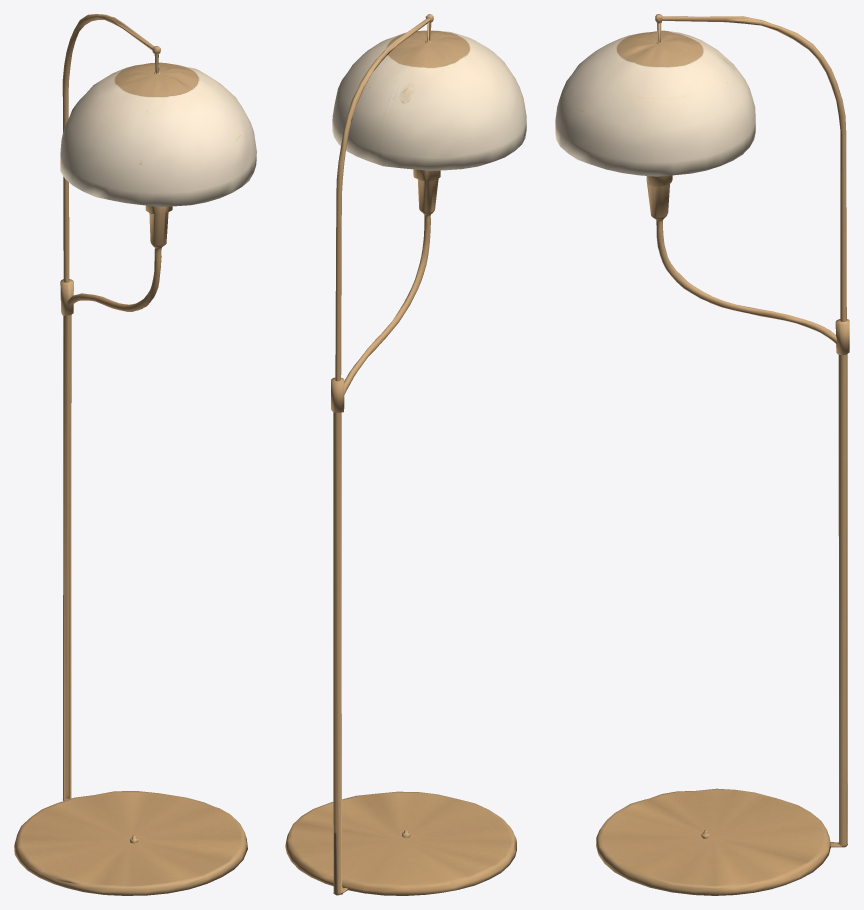
File: floor_lamp.glb
3 renders of one model, left to right at view 1: azimuth 30°, elevation 25°; view 2: azimuth 150°, elevation 25°; view 3: azimuth 270°, elevation 25°, orthographic. The views are drawn at different scales.
Size of the model in its own units: 0.2608 by 1 by 0.3218.
1 material, 1 textured.
